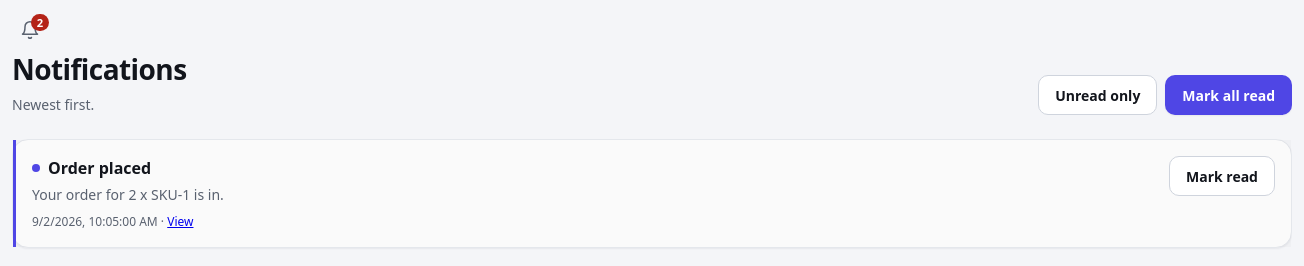
marking read and the unread badge › refetches the badge after mark-all, not just the feed
This screenshot has width=1304, height=266.
Expected: the link named "Notifications, 2 unread" is shown, [20,14,49,40]
Click the button "Mark all read": (1229, 95) [1165,75,1292,115]
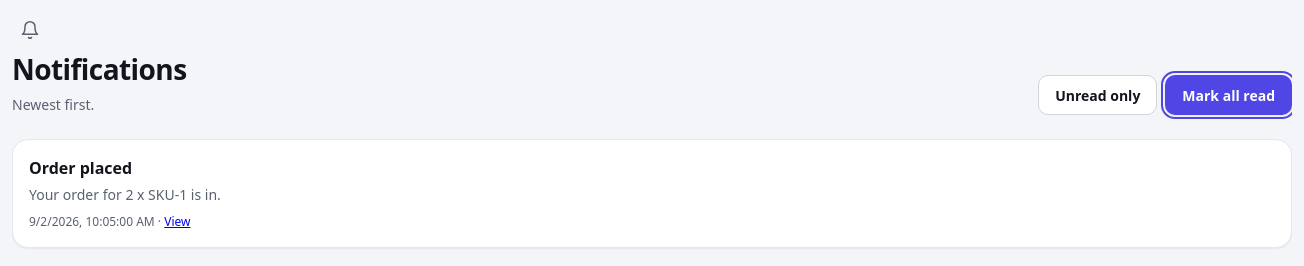
Expected: the link named "Notifications, none unread" is shown, [20,20,40,40]
